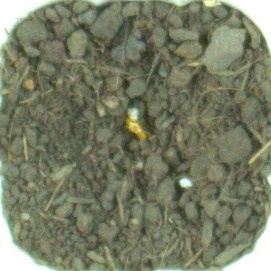pepper seed: (45, 38, 199, 182)
